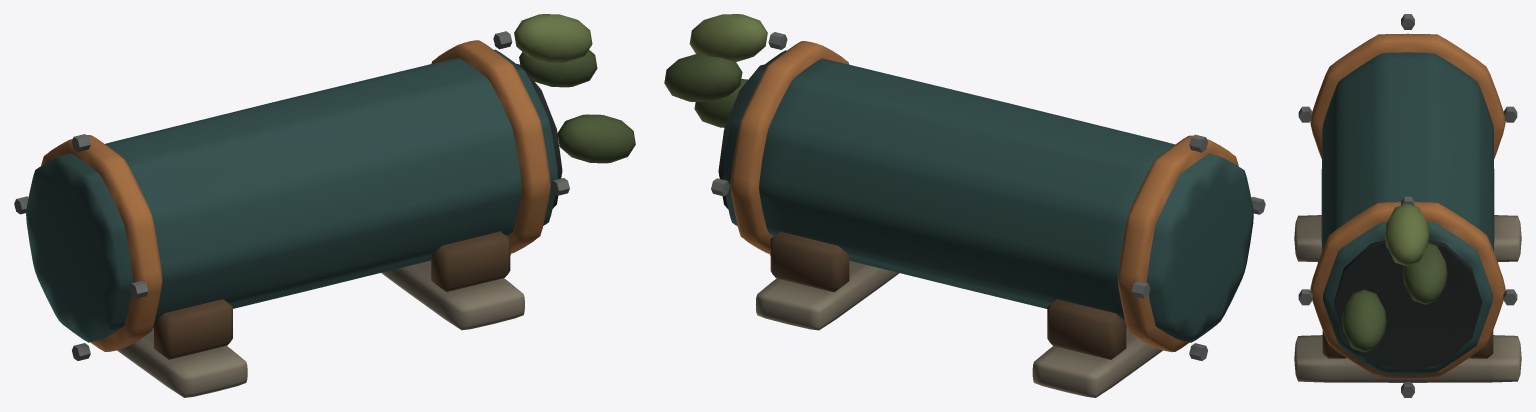
File: pipe_section_a.glb
3 views of the same model, side by side, from view 1: azimuth 30°, elevation 25°; view 2: azimuth 150°, elevation 25°; view 3: azimuth 270°, elevation 25° (orthographic). The views are drawn at different scales.
Visible parts, largest first — view 1: Surface; view 2: Surface; view 3: Surface.
Part boxes in pixels (x1,y1,x2,y2): Surface: (14,14,635,397); Surface: (664,14,1265,397); Surface: (1294,14,1521,397).
Size of the model in its own units: 3.89 by 1.64 by 1.6.
